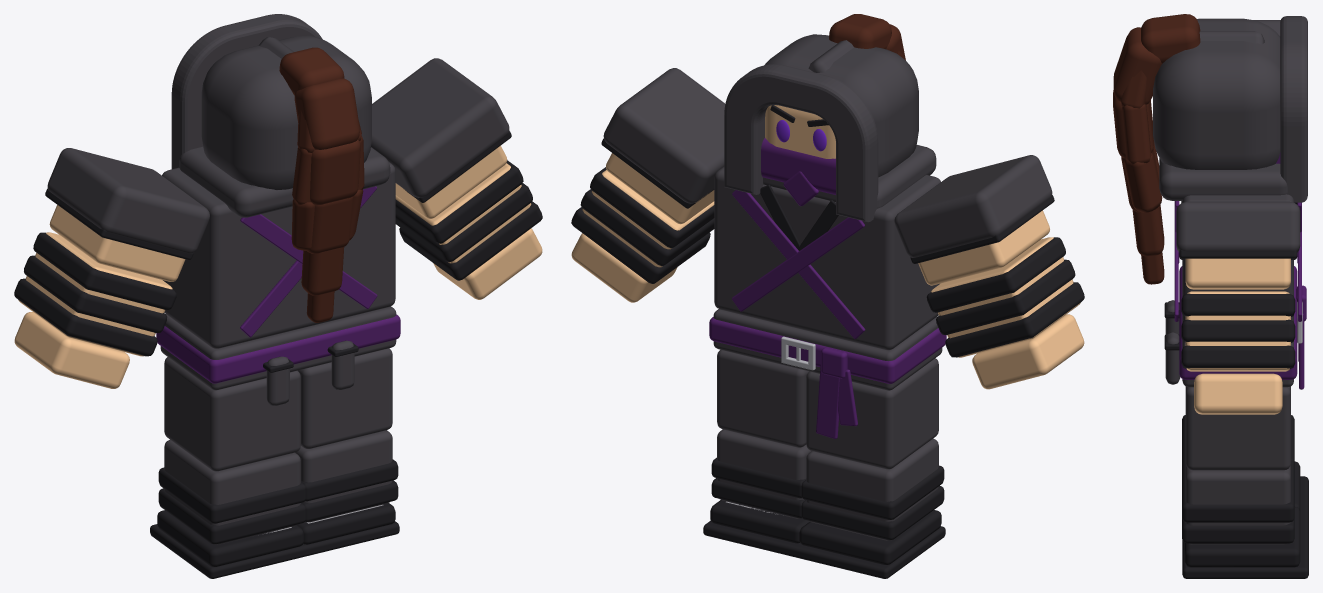
File: assassin_female.glb
The picture shows the model from 3 angles, left to right: view 1: azimuth 30°, elevation 25°; view 2: azimuth 150°, elevation 25°; view 3: azimuth 270°, elevation 25°; orthographic projection. The views are drawn at different scales.
Parts seen in each view (by area): view 1: UpperTorso_Vest, Hood_Shell, RightUpperArm_ShoulderPad, LeftUpperLeg_Pants, LeftUpperArm_ShoulderPad, RightUpperLeg_Pants, Hood_Opening, LeftLowerLeg_Pants, LowerTorso_Belt, LeftHand_Skin, LowerTorso_Tunic, Hood_Cowl (+33 smaller); view 2: UpperTorso_Vest, Hood_Opening, RightUpperArm_ShoulderPad, LeftUpperArm_ShoulderPad, LeftUpperLeg_Pants, Hood_Shell, RightUpperLeg_Pants, LeftLowerLeg_Pants, LowerTorso_Belt, LeftHand_Skin, LowerTorso_Tunic, RightLowerLeg_Pants (+33 smaller); view 3: Hood_Shell, RightUpperLeg_Pants, RightUpperArm_ShoulderPad, Hood_Opening, RightLowerLeg_Pants, RightHand_Skin, Hood_Cowl, RightUpperArm_Skin, RightFoot_Boot, RightLowerArm_Bracer3, RightLowerArm_Bracer1, RightLowerArm_Bracer2 (+24 smaller).
Part boxes in pixels (box(x1,y1,x2,y2)): UpperTorso_Vest: box(162, 162, 395, 348); Hood_Shell: box(201, 35, 371, 189); RightUpperArm_ShoulderPad: box(371, 58, 509, 197); LeftUpperLeg_Pants: box(164, 357, 300, 471); LeftUpperArm_ShoulderPad: box(47, 148, 209, 253); RightUpperLeg_Pants: box(298, 348, 392, 448); Hood_Opening: box(171, 14, 322, 169); LeftLowerLeg_Pants: box(164, 440, 300, 544); LowerTorso_Belt: box(156, 314, 400, 383); LeftHand_Skin: box(14, 312, 129, 388); LowerTorso_Tunic: box(160, 306, 396, 390); Hood_Cowl: box(179, 146, 390, 217); UpperTorso_Vest: box(714, 166, 940, 350); Hood_Opening: box(724, 64, 878, 222); RightUpperArm_ShoulderPad: box(603, 68, 725, 203); LeftUpperArm_ShoulderPad: box(894, 155, 1052, 257); LeftUpperLeg_Pants: box(806, 358, 938, 469); Hood_Shell: box(764, 34, 918, 177); RightUpperLeg_Pants: box(717, 349, 808, 447); LeftLowerLeg_Pants: box(806, 438, 938, 540); LowerTorso_Belt: box(709, 317, 946, 383); LeftHand_Skin: box(972, 314, 1084, 389); LowerTorso_Tunic: box(713, 309, 942, 390); RightLowerLeg_Pants: box(717, 429, 811, 518); Hood_Shell: box(1153, 18, 1280, 169); RightUpperLeg_Pants: box(1185, 386, 1290, 470); RightUpperArm_ShoulderPad: box(1176, 201, 1300, 252); Hood_Opening: box(1280, 16, 1307, 202); RightLowerLeg_Pants: box(1185, 464, 1290, 544); RightHand_Skin: box(1194, 373, 1282, 414); Hood_Cowl: box(1159, 158, 1287, 200); RightUpperArm_Skin: box(1185, 258, 1290, 289); RightFoot_Boot: box(1184, 507, 1300, 567); RightLowerArm_Bracer3: box(1181, 345, 1295, 368); RightLowerArm_Bracer1: box(1181, 293, 1295, 316); RightLowerArm_Bracer2: box(1181, 319, 1295, 342).
Size of the model in its own units: 5.45 by 5.37 by 1.86.
